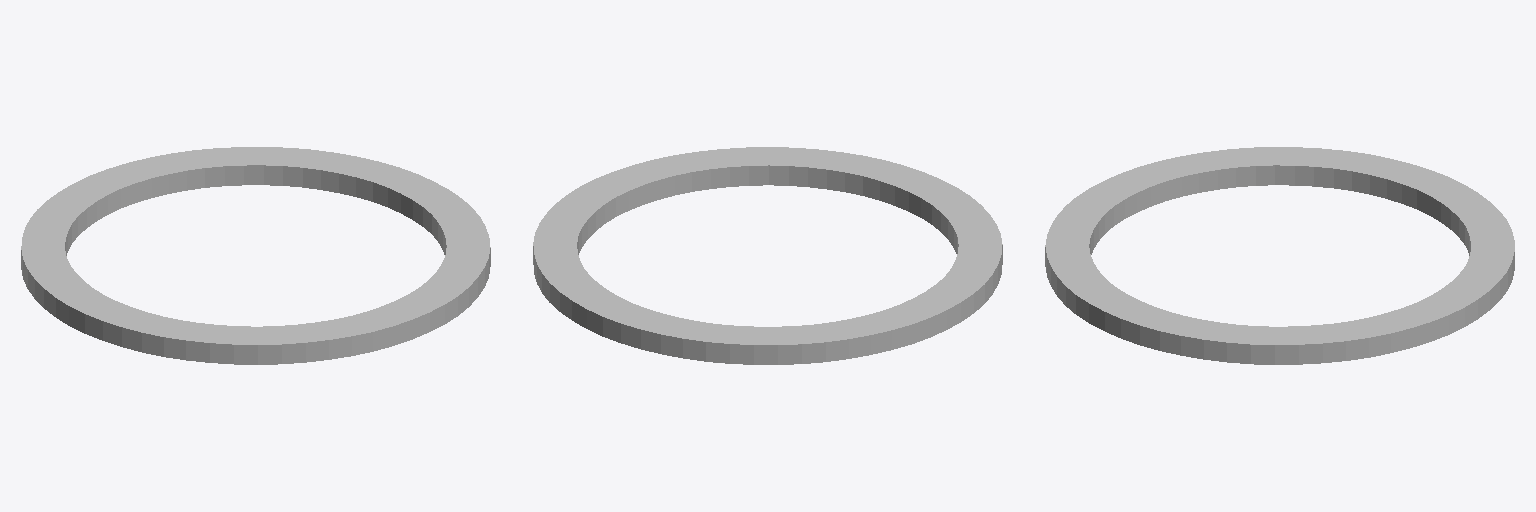
The model's file is TorusUV3-5.obj.
The picture shows the model from 3 angles: view 1: azimuth 30°, elevation 25°; view 2: azimuth 150°, elevation 25°; view 3: azimuth 270°, elevation 25°; orthographic projection.
Size of the model in its own units: 25.24 by 1.18 by 25.24.